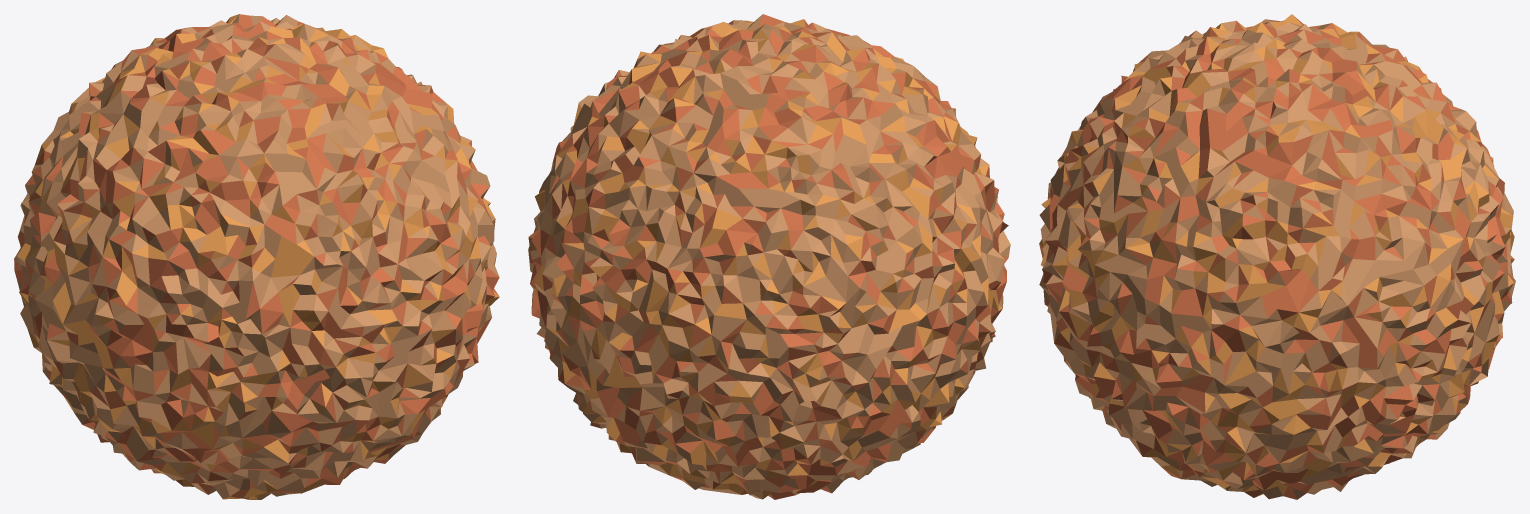
File: venus0.fbx
3 renders of one model, left to right at view 1: azimuth 30°, elevation 25°; view 2: azimuth 150°, elevation 25°; view 3: azimuth 270°, elevation 25°, orthographic.
Visible parts, largest first — view 1: Venus V2; view 2: Venus V2; view 3: Venus V2.
Boxes of the visible parts, box(x1,y1,x2,y2) form: Venus V2: box(14, 14, 499, 499); Venus V2: box(528, 14, 1010, 499); Venus V2: box(1039, 14, 1515, 499).
Bounding box in the file's own units: 207 × 208 × 206.
